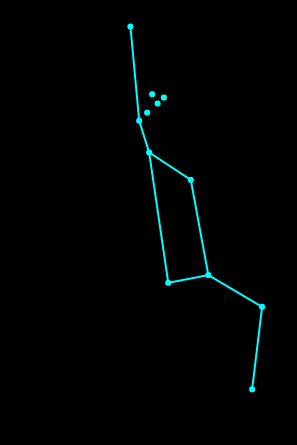warrior_1: (114, 17, 272, 399)
